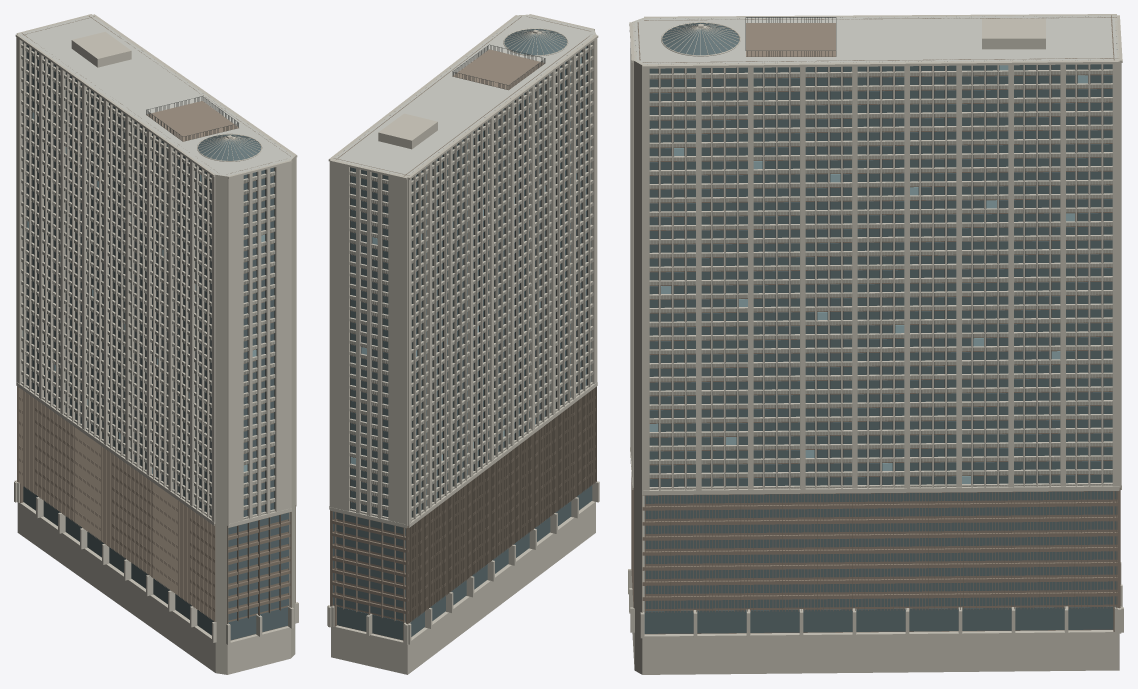
The model's file is millennium_plaza.glb.
3 renders of one model, left to right at view 1: azimuth 30°, elevation 25°; view 2: azimuth 150°, elevation 25°; view 3: azimuth 270°, elevation 25°, orthographic. The views are drawn at different scales.
Parts seen in each view (by area): view 1: Millennium pale concrete piers, Millennium recessed residential glass, Millennium brown ribbed office panels, Millennium light roof membrane, Millennium fluted residential spandrels, Millennium dark sash and deck railing, Millennium brown terrace pavers; view 2: Millennium pale concrete piers, Millennium recessed residential glass, Millennium brown ribbed office panels, Millennium light roof membrane, Millennium fluted residential spandrels, Millennium dark sash and deck railing, Millennium brown terrace pavers; view 3: Millennium recessed residential glass, Millennium pale concrete piers, Millennium brown ribbed office panels, Millennium fluted residential spandrels, Millennium light roof membrane, Millennium dark sash and deck railing, Millennium brown terrace pavers, Night Millennium occupied panes.
Part boxes in pixels (x1=…): Millennium pale concrete piers: x1=14, y1=14, x2=298, y2=674; Millennium recessed residential glass: x1=22, y1=42, x2=288, y2=640; Millennium brown ribbed office panels: x1=17, y1=16, x2=295, y2=640; Millennium light roof membrane: x1=18, y1=15, x2=294, y2=518; Millennium fluted residential spandrels: x1=21, y1=45, x2=275, y2=519; Millennium dark sash and deck railing: x1=26, y1=44, x2=274, y2=515; Millennium brown terrace pavers: x1=146, y1=101, x2=238, y2=141; Millennium pale concrete piers: x1=327, y1=14, x2=599, y2=674; Millennium recessed residential glass: x1=333, y1=29, x2=592, y2=639; Millennium brown ribbed office panels: x1=330, y1=16, x2=596, y2=642; Millennium light roof membrane: x1=333, y1=15, x2=595, y2=520; Millennium fluted residential spandrels: x1=349, y1=46, x2=592, y2=520; Millennium dark sash and deck railing: x1=344, y1=44, x2=587, y2=517; Millennium brown terrace pavers: x1=452, y1=49, x2=545, y2=90; Millennium recessed residential glass: x1=644, y1=23, x2=1117, y2=633; Millennium pale concrete piers: x1=628, y1=14, x2=1123, y2=674; Millennium brown ribbed office panels: x1=631, y1=15, x2=1120, y2=634; Millennium fluted residential spandrels: x1=649, y1=71, x2=1112, y2=489; Millennium light roof membrane: x1=632, y1=15, x2=1119, y2=489; Millennium dark sash and deck railing: x1=635, y1=16, x2=1117, y2=488; Millennium brown terrace pavers: x1=746, y1=23, x2=835, y2=56; Night Millennium occupied panes: x1=649, y1=65, x2=1087, y2=483.
Size of the model in its own units: 23.81 by 130 by 93.42.
